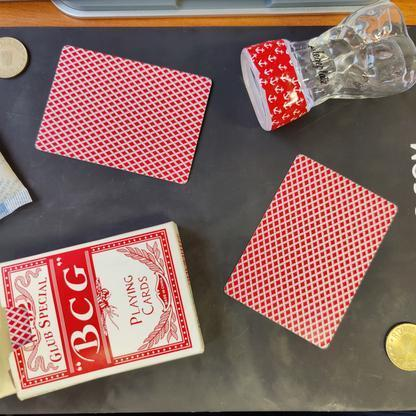card: (219, 143, 401, 361), (28, 38, 226, 189)
